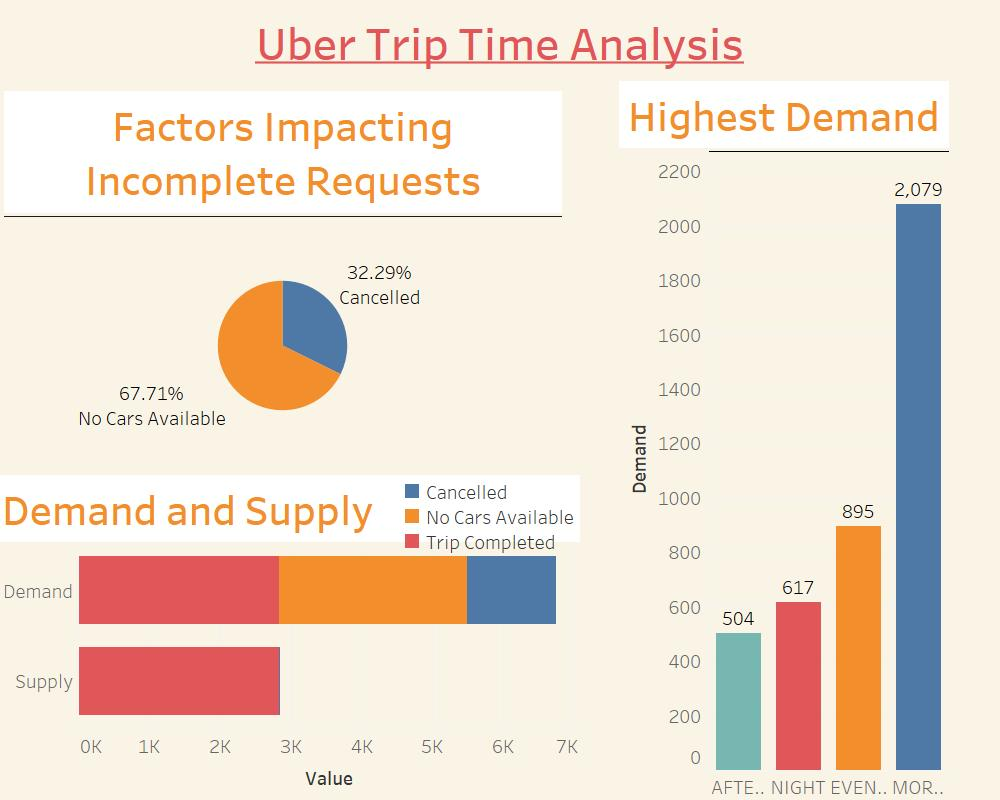

The dashboard page shown, as its layout file describes it:
{"tool":"tableau","page":{"name":"Uber Trip Time Analysis","canvas":[1000,800],"ordinal":0},"visuals":[{"type":"title","box":[8,8,984,68]},{"type":"worksheet","title":"Highest Demand","mark":"Automatic","rows":["Status"],"box":[619,81,372,719]},{"type":"worksheet","title":"Factors Impacting Incomplete Requests","mark":"Pie","box":[4,91,558,385]},{"type":"legend","title":"Demand and Supply","param":"[federated.1xuziij0q65fj01fll8ht07qekmz].[none:Status:nk]","box":[400,479,205,76]}]}

Visuals, with their boxes in screenshot pixels (x1, y1, x2, y2), scaled from the page's 1000x800 canvas onto the 1000x800 screenshot:
title: x1=8 y1=8 x2=992 y2=76
"Highest Demand" worksheet: x1=619 y1=81 x2=991 y2=799
"Factors Impacting Incomplete Requests" worksheet (Pie marks): x1=4 y1=91 x2=562 y2=476
"Demand and Supply" legend: x1=400 y1=479 x2=605 y2=555
